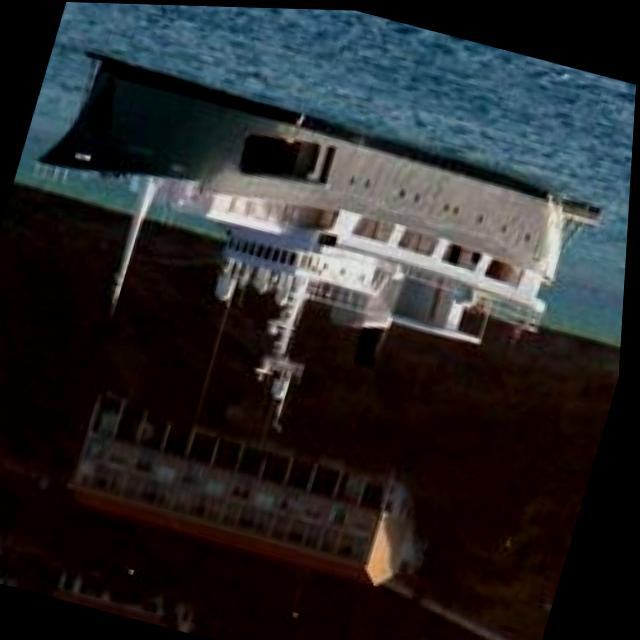ship2: (43, 56, 600, 420)
